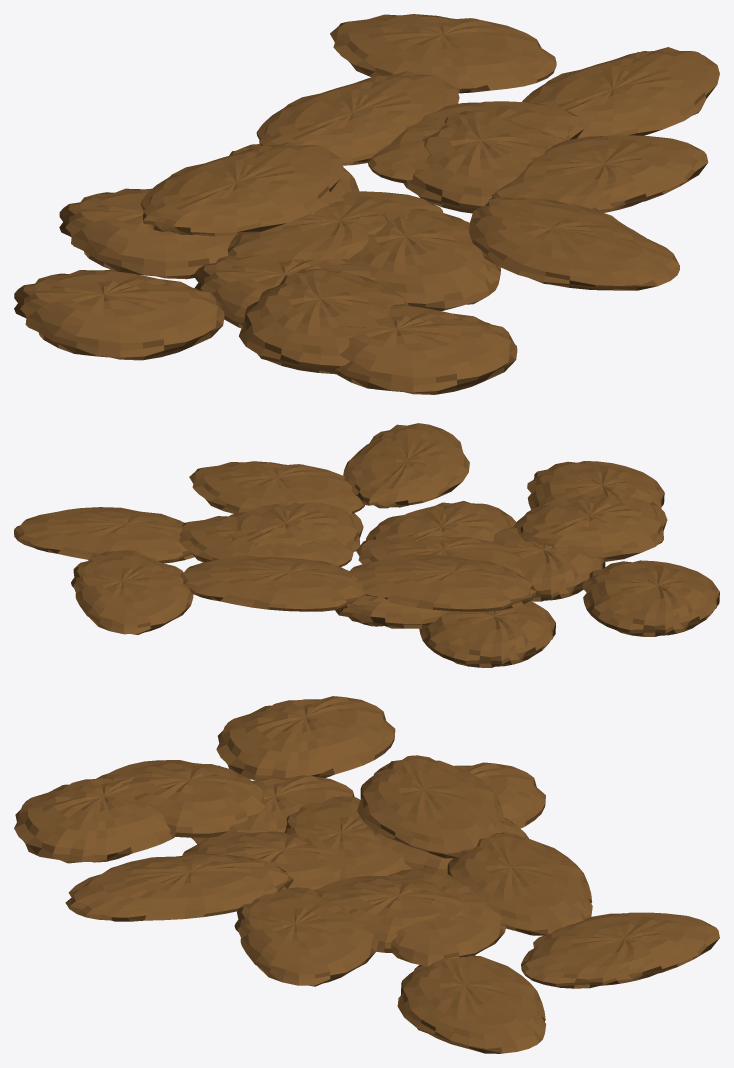
The model's file is breadcrumbs.fbx.
3 renders of one model, top to bottom at view 1: azimuth 30°, elevation 25°; view 2: azimuth 150°, elevation 25°; view 3: azimuth 270°, elevation 25°, orthographic. The views are drawn at different scales.
Parts seen in each view (by area): view 1: Sphere.001; view 2: Sphere.001; view 3: Sphere.001.
Boxes of the visible parts, x1,y1,x2,y2 form: Sphere.001: (14, 14, 719, 394); Sphere.001: (14, 423, 719, 667); Sphere.001: (14, 696, 719, 1053).
Bounding box in the file's own units: 52.92 × 4.54 × 45.41.
